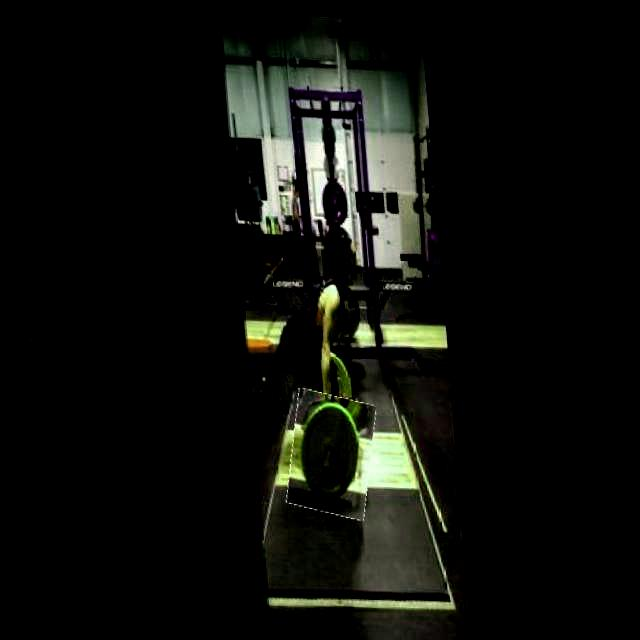barbell: (277, 389, 372, 515)
